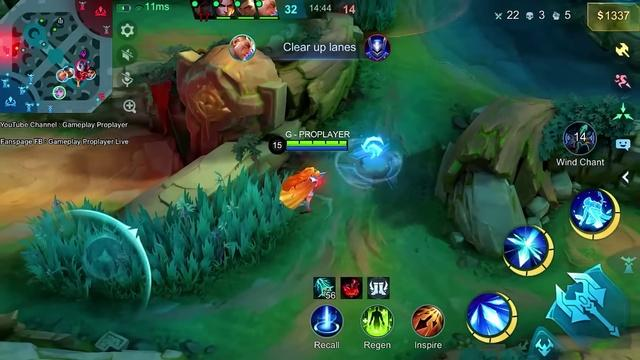Adc_Aliado: (53, 85, 65, 99)
Arbusto: (134, 168, 295, 296), (17, 206, 143, 300), (352, 0, 395, 33)
Exp_Aliado: (57, 70, 71, 83)
Exp_Enemigo: (75, 60, 88, 72)
HP_Heroe_Principal: (286, 141, 347, 146)
Hechizo_Batalla: (412, 304, 443, 337)
Jungla_Aliado: (63, 65, 75, 78)
Jungla_Enemigo: (75, 70, 87, 80)
Mana: (286, 145, 351, 151)
Minimapa: (0, 0, 113, 111)
Miya: (278, 166, 323, 212)
Roamer_Aliado: (82, 68, 98, 80)
Skill1: (466, 293, 516, 343)
Skill2: (506, 226, 556, 275)
Skill3: (571, 190, 620, 239)
